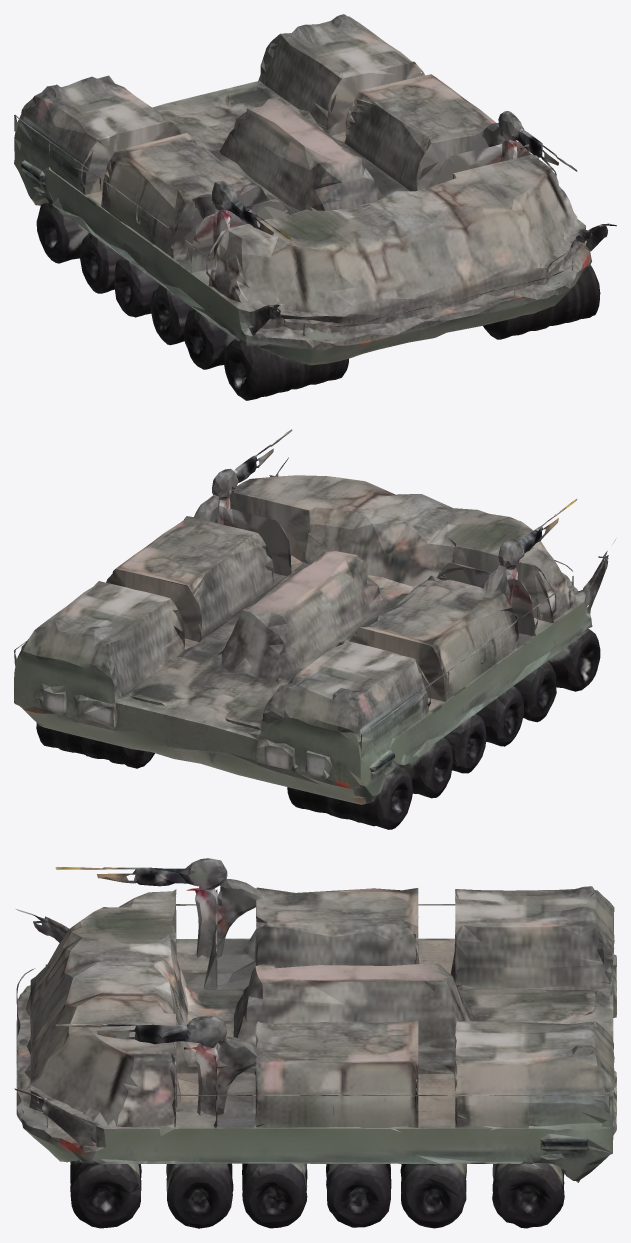
The model's file is Norinco_Lynx_CS_VP4_AI_Rodin.glb.
3 renders of one model, top to bottom at view 1: azimuth 30°, elevation 25°; view 2: azimuth 150°, elevation 25°; view 3: azimuth 270°, elevation 25°, orthographic. The views are drawn at different scales.
Visible parts, largest first — view 1: model; view 2: model; view 3: model.
Boxes of the visible parts, <box> form: model: <box>14,14,616,400</box>; model: <box>14,429,616,829</box>; model: <box>14,858,616,1228</box>.
Bounding box in the file's own units: 1.45 × 0.6877 × 1.9.
1 material, 1 textured.
